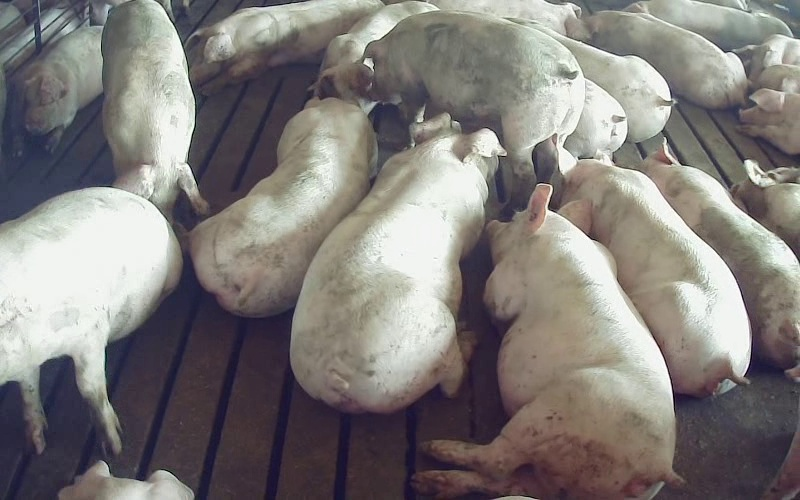pig: (413, 184, 679, 499), (290, 114, 504, 412), (0, 187, 181, 453), (560, 152, 750, 396), (365, 11, 584, 208), (190, 98, 376, 316), (640, 142, 799, 380), (101, 0, 205, 220), (584, 11, 747, 108), (313, 0, 437, 113), (12, 26, 101, 155), (625, 0, 792, 50)
